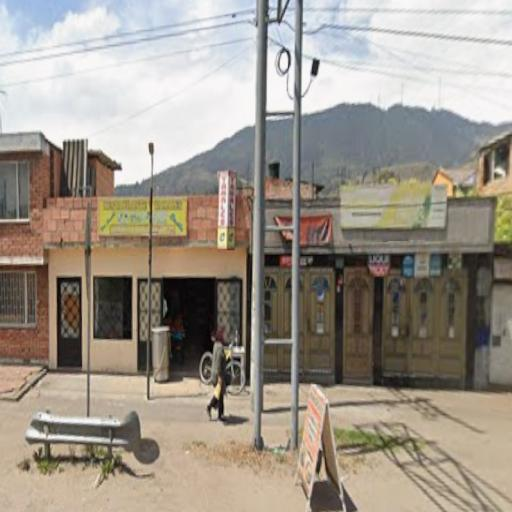poste: (249, 2, 268, 446), (288, 0, 305, 449)
